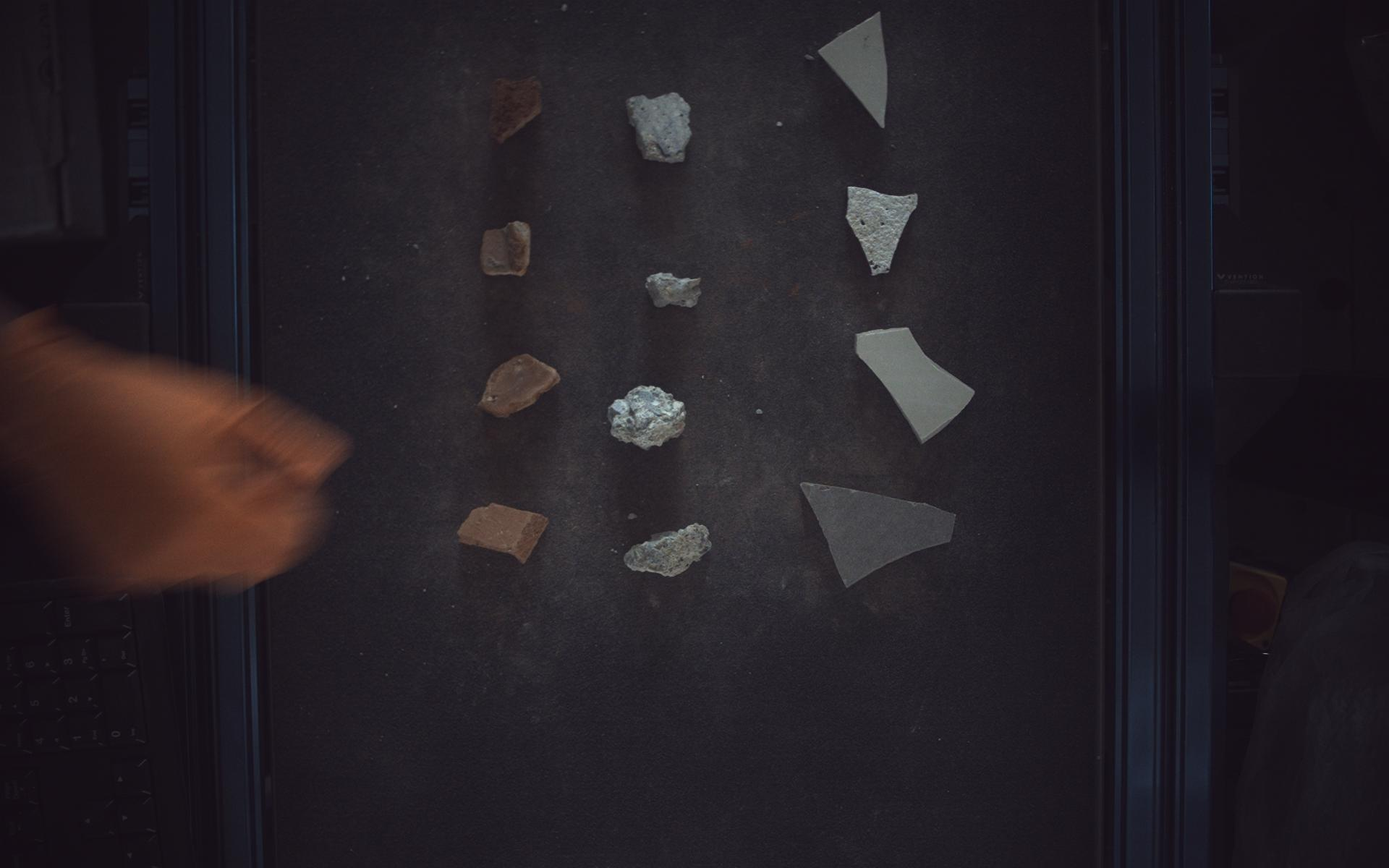brick: (457, 504, 548, 563), (479, 354, 561, 417), (490, 77, 541, 142), (480, 221, 530, 276)
concrete: (608, 386, 687, 449), (627, 91, 692, 162), (624, 524, 711, 577), (646, 272, 701, 307)
tile: (802, 482, 957, 587), (857, 328, 976, 443), (820, 11, 889, 127), (848, 186, 919, 275)
